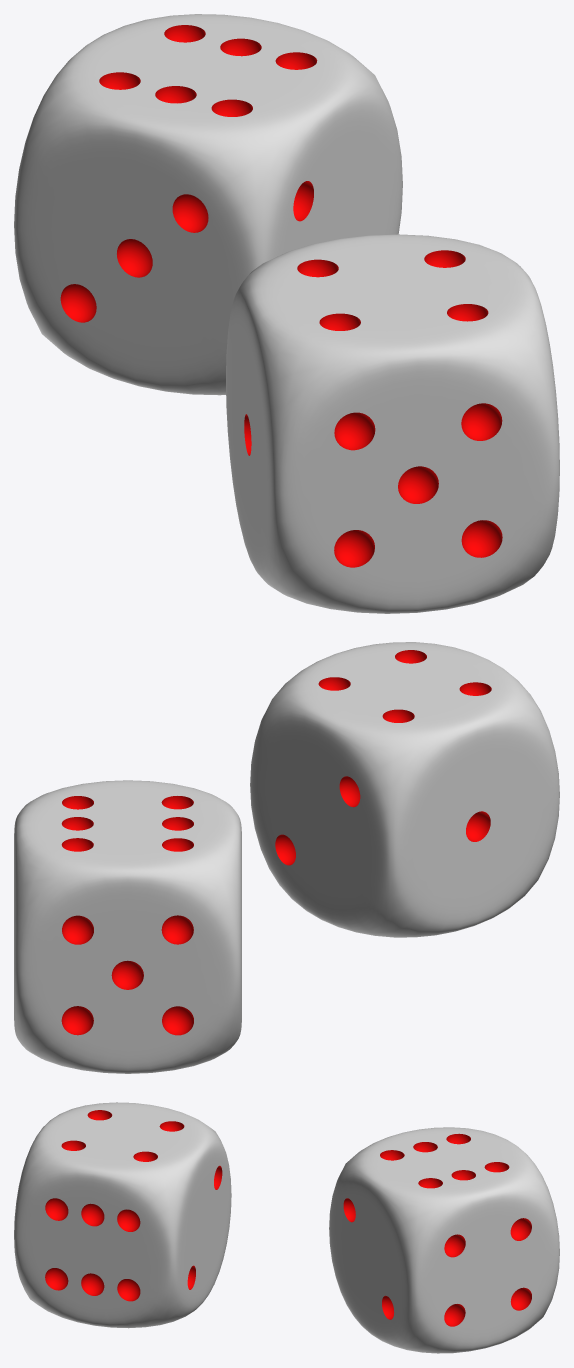
The model's file is dice SP.fbx.
3 views of the same model, one above another, from view 1: azimuth 30°, elevation 25°; view 2: azimuth 150°, elevation 25°; view 3: azimuth 270°, elevation 25° (orthographic). The views are drawn at different scales.
Parts seen in each view (by area): view 1: dice001, dice003; view 2: dice001, dice003; view 3: dice003, dice001.
Part boxes in pixels (bbox=[...]): dice001: bbox=[226, 234, 559, 613]; dice003: bbox=[14, 14, 402, 395]; dice001: bbox=[250, 642, 559, 937]; dice003: bbox=[14, 780, 241, 1073]; dice003: bbox=[329, 1127, 559, 1353]; dice001: bbox=[14, 1102, 231, 1328].
Bounding box in the file's own units: 81.11 × 50 × 156.
